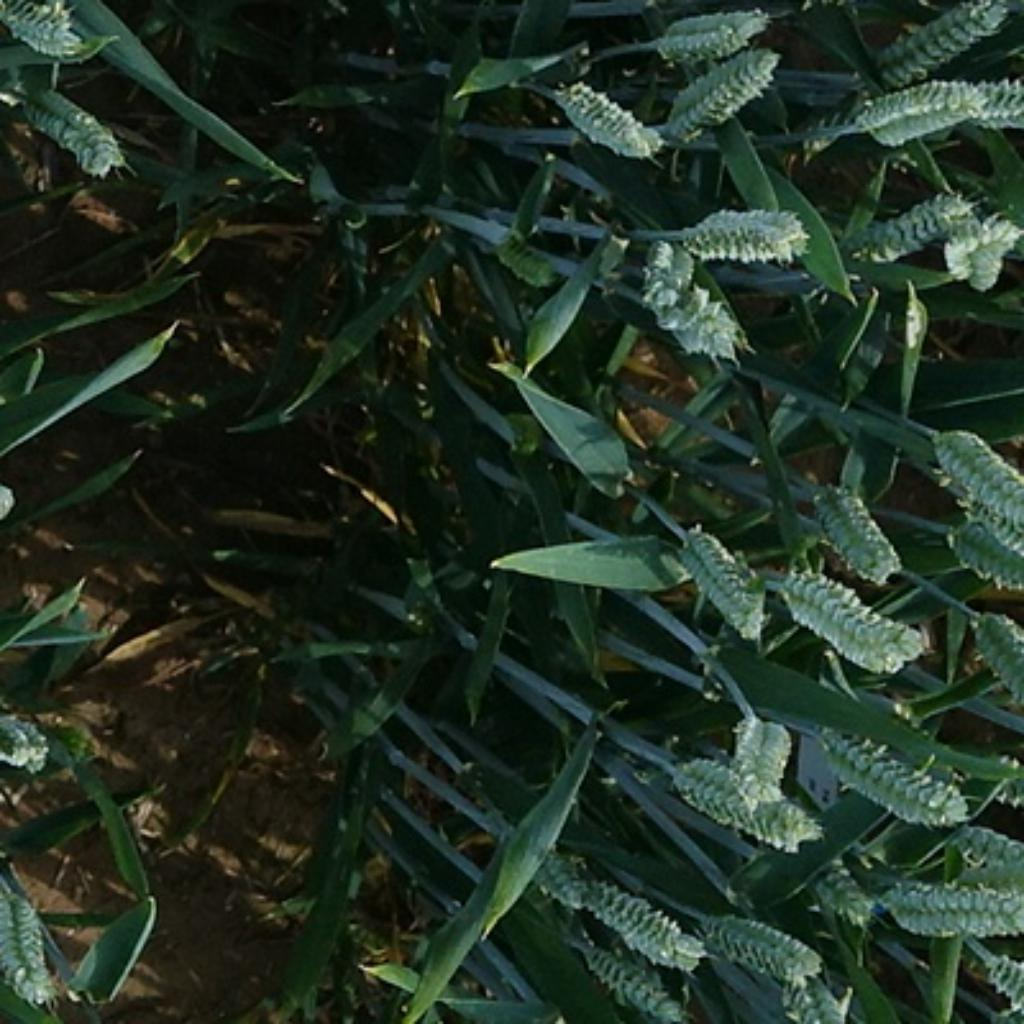0-0: (776, 562, 937, 680), (806, 719, 967, 832), (680, 752, 819, 860), (927, 426, 1024, 560), (580, 878, 701, 985), (10, 69, 125, 179), (655, 46, 788, 141), (875, 865, 1024, 944), (565, 938, 699, 1024), (675, 523, 775, 638), (668, 194, 814, 268), (837, 187, 970, 266), (805, 481, 905, 584), (856, 73, 979, 154), (487, 812, 583, 914), (551, 78, 666, 163), (696, 908, 821, 983), (888, 0, 1016, 71), (942, 196, 1024, 299), (716, 714, 796, 814), (0, 884, 61, 1015), (652, 0, 775, 64), (943, 511, 1024, 599), (672, 290, 756, 369), (765, 960, 867, 1024), (0, 701, 68, 786), (808, 852, 883, 926), (0, 0, 89, 59), (967, 610, 1024, 702), (949, 822, 1024, 889), (638, 241, 695, 329), (940, 77, 1024, 126), (491, 232, 558, 289), (981, 946, 1024, 1020), (0, 309, 2, 366), (0, 0, 2, 20)
